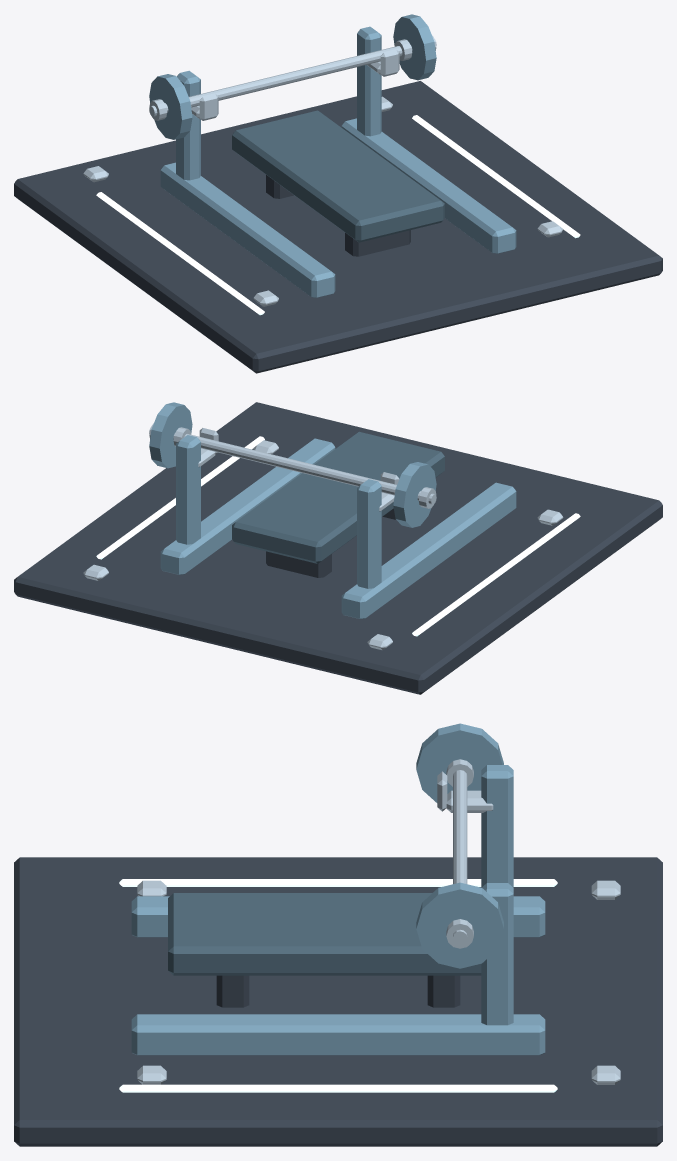
The model's file is Standard.fbx.
3 views of the same model, one above another, from view 1: azimuth 30°, elevation 25°; view 2: azimuth 150°, elevation 25°; view 3: azimuth 270°, elevation 25° (orthographic). The views are drawn at different scales.
Visible parts, largest first — view 1: Body, Barbell; view 2: Body, Barbell; view 3: Body, Barbell.
Boxes of the visible parts, x1=… form: Body: x1=14, y1=26, x2=662, y2=373; Barbell: x1=149, y1=14, x2=436, y2=139; Body: x1=14, y1=402, x2=662, y2=694; Barbell: x1=149, y1=402, x2=436, y2=527; Body: x1=14, y1=765, x2=662, y2=1146; Barbell: x1=416, y1=723, x2=503, y2=968.
Size of the model in its own units: 390 by 142 by 400.
